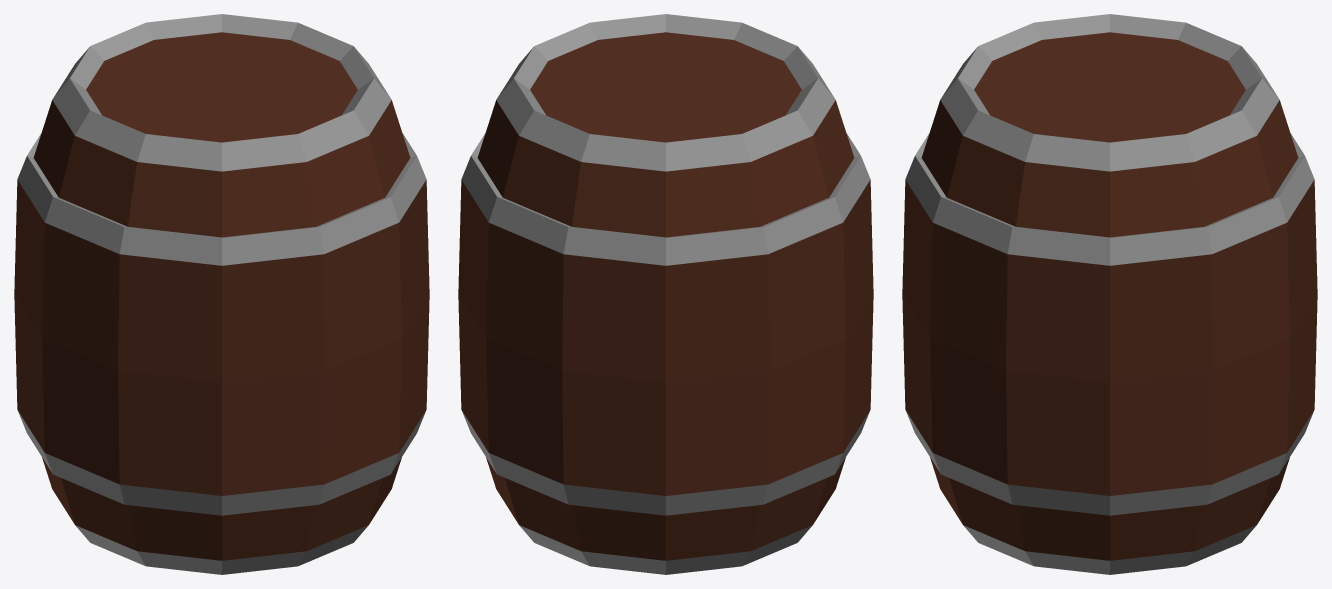
Rendered from Barril.fbx.
3 views of the same model, side by side, from view 1: azimuth 30°, elevation 25°; view 2: azimuth 150°, elevation 25°; view 3: azimuth 270°, elevation 25° (orthographic).
Parts seen in each view (by area): view 1: Barris.003; view 2: Barris.003; view 3: Barris.003.
Boxes of the visible parts, x1=… form: Barris.003: x1=14, y1=14, x2=429, y2=574; Barris.003: x1=458, y1=14, x2=873, y2=574; Barris.003: x1=902, y1=14, x2=1317, y2=574.
Bounding box in the file's own units: 99.23 × 114 × 99.23.
